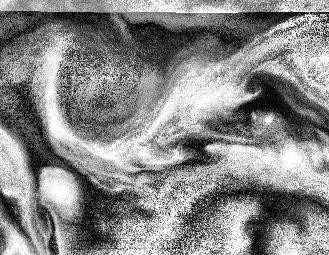AE: (38, 23, 165, 159)
